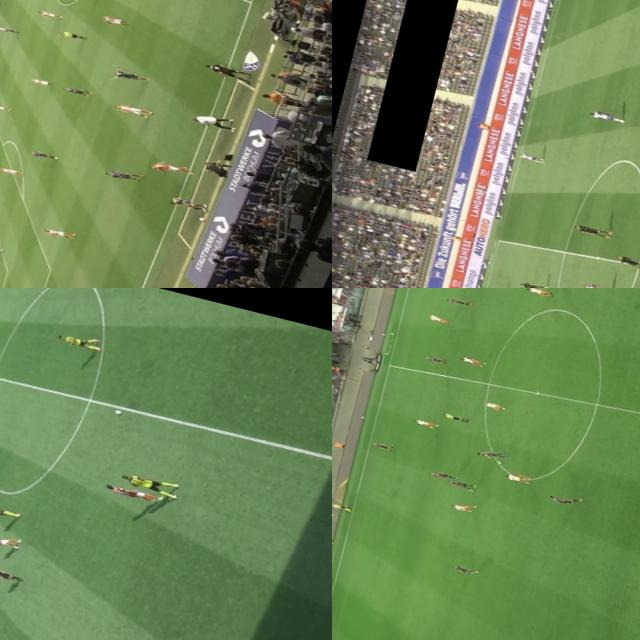ball: (108, 405, 126, 416), (193, 215, 205, 222), (494, 458, 504, 464)
player: (118, 471, 176, 494), (102, 482, 160, 504), (148, 154, 191, 180), (100, 163, 144, 185), (52, 330, 98, 350), (108, 62, 145, 86), (544, 488, 586, 508), (39, 220, 79, 240), (587, 106, 626, 125), (572, 222, 612, 240), (115, 98, 152, 116), (610, 251, 640, 273), (516, 150, 548, 166), (424, 467, 458, 482), (474, 446, 508, 461), (458, 352, 487, 368), (448, 498, 477, 514), (29, 147, 62, 161), (100, 13, 130, 28), (0, 527, 20, 549), (501, 470, 532, 484), (36, 6, 66, 20), (420, 351, 447, 365), (413, 415, 440, 429), (0, 163, 23, 179), (0, 501, 20, 519), (449, 479, 479, 491), (517, 278, 550, 288), (580, 278, 613, 288), (444, 295, 471, 307), (424, 312, 451, 324), (449, 562, 476, 574), (371, 439, 394, 451), (483, 400, 506, 411), (1, 24, 21, 34), (31, 76, 52, 85), (525, 288, 552, 295), (0, 101, 12, 112), (0, 241, 6, 255), (0, 21, 5, 30)
